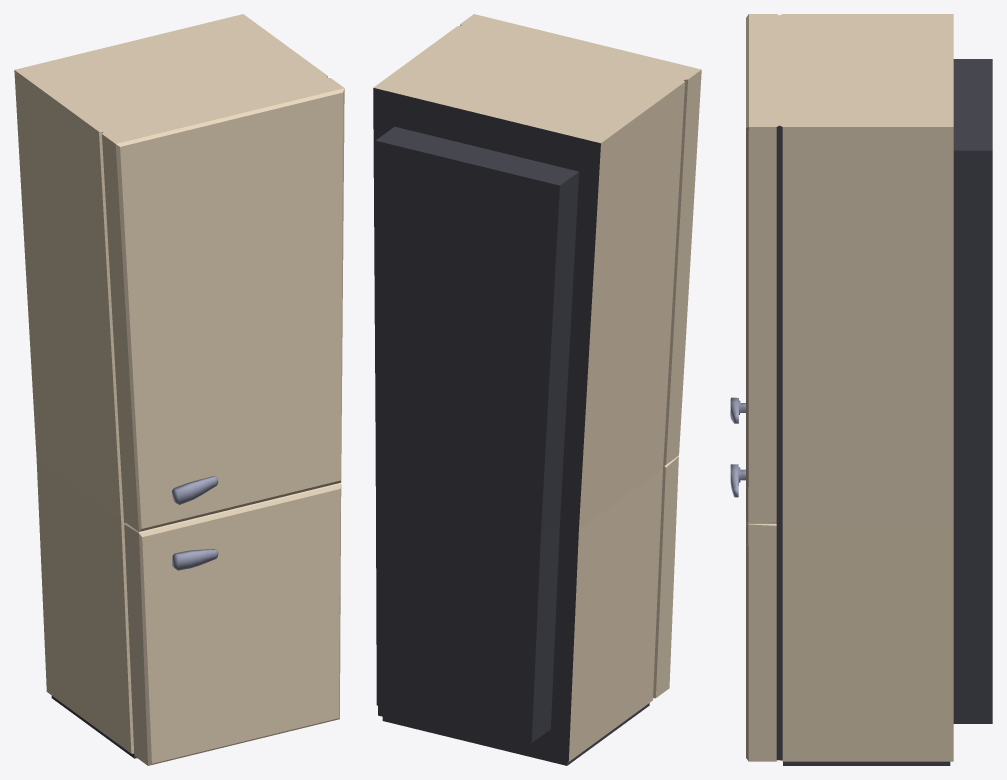
File: Fridge.glb
3 views of the same model, side by side, from view 1: azimuth 30°, elevation 25°; view 2: azimuth 150°, elevation 25°; view 3: azimuth 270°, elevation 25° (orthographic).
Parts seen in each view (by area): view 1: Fridge, Fridge_Handle; view 2: Fridge; view 3: Fridge, Fridge_Handle.
Part boxes in pixels (box(x1,y1,x2,y2)): Fridge: box(14, 14, 344, 765); Fridge_Handle: box(172, 476, 218, 570); Fridge: box(373, 14, 701, 765); Fridge: box(746, 14, 992, 765); Fridge_Handle: box(730, 397, 745, 497).
Size of the model in its own units: 0.7162 by 1.9 by 0.702.
